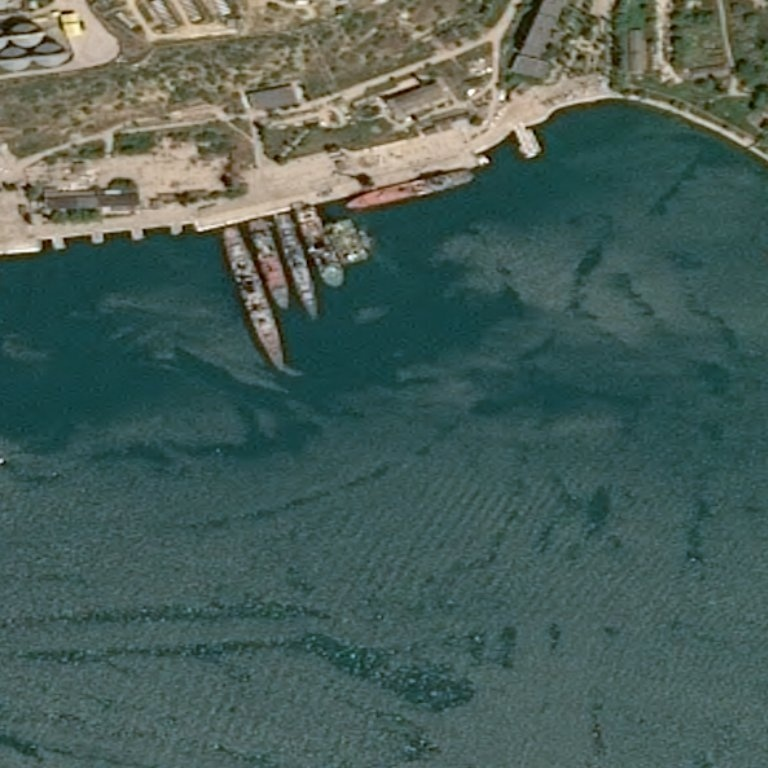ship: (216, 223, 284, 370), (267, 201, 324, 317), (342, 162, 474, 211), (292, 194, 347, 289), (243, 212, 292, 312)
